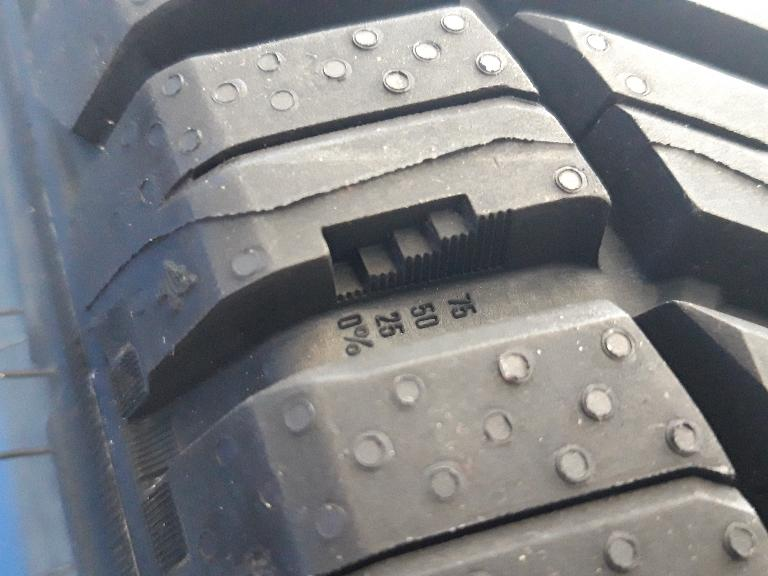temoin:100: (313, 187, 522, 319)
